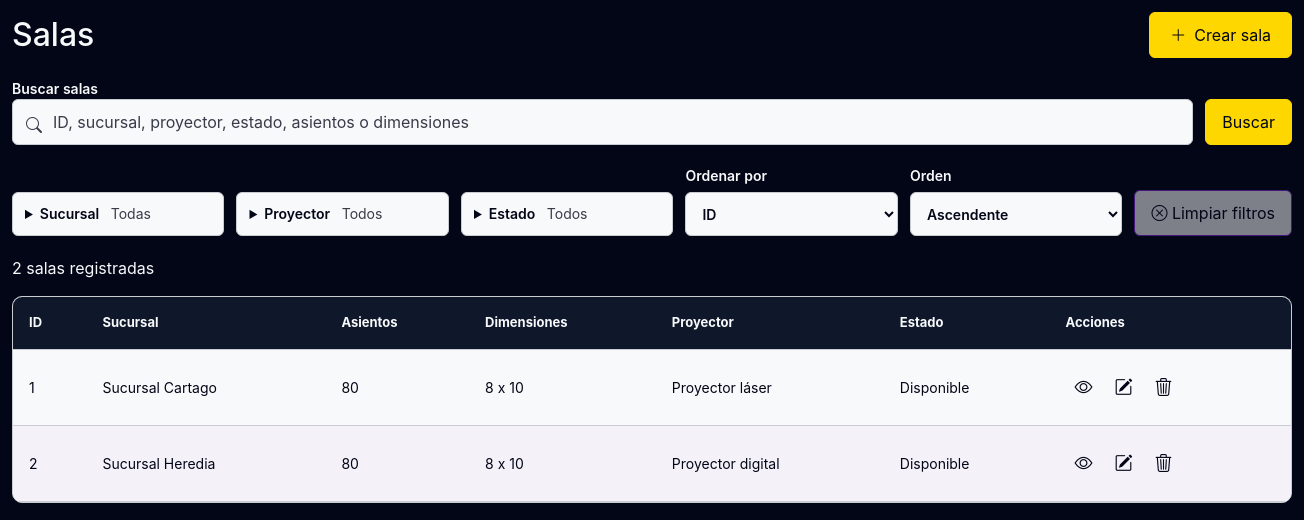
TheatersSection search › shows a message when nothing matches and restores rows on clear
Type "zzz" into the search field with id "theater-search".
click(603, 122); type("zzz")  # box [12,99,1193,145]
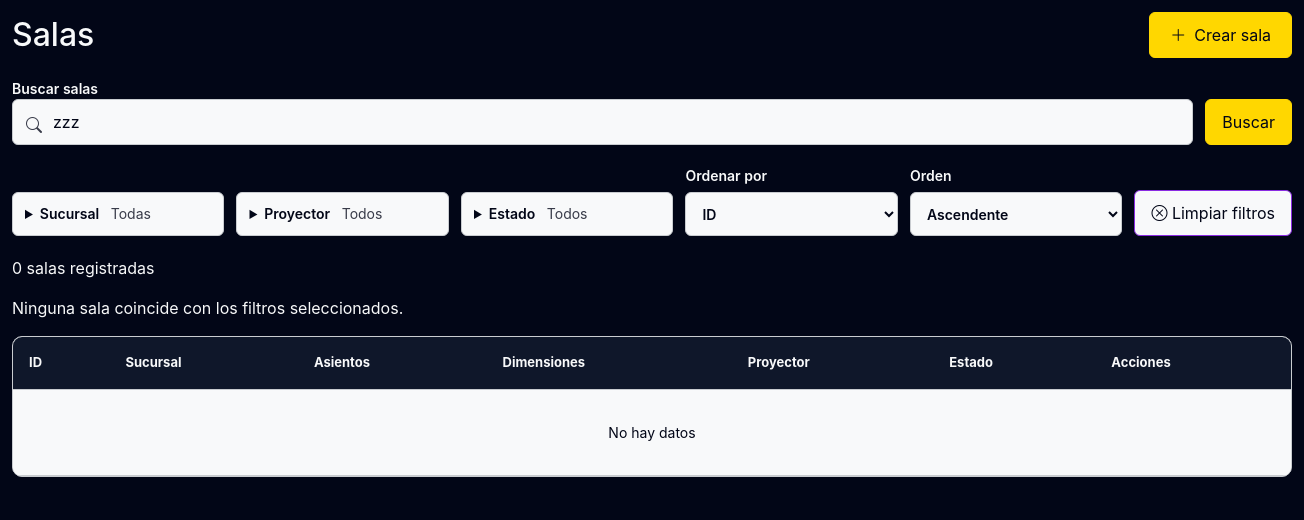
Expected: the text "Ninguna sala coincide" is shown, [12,298,403,318]
Click the button with class "secondary-button".
click(1213, 213)  # box [1134,190,1292,236]
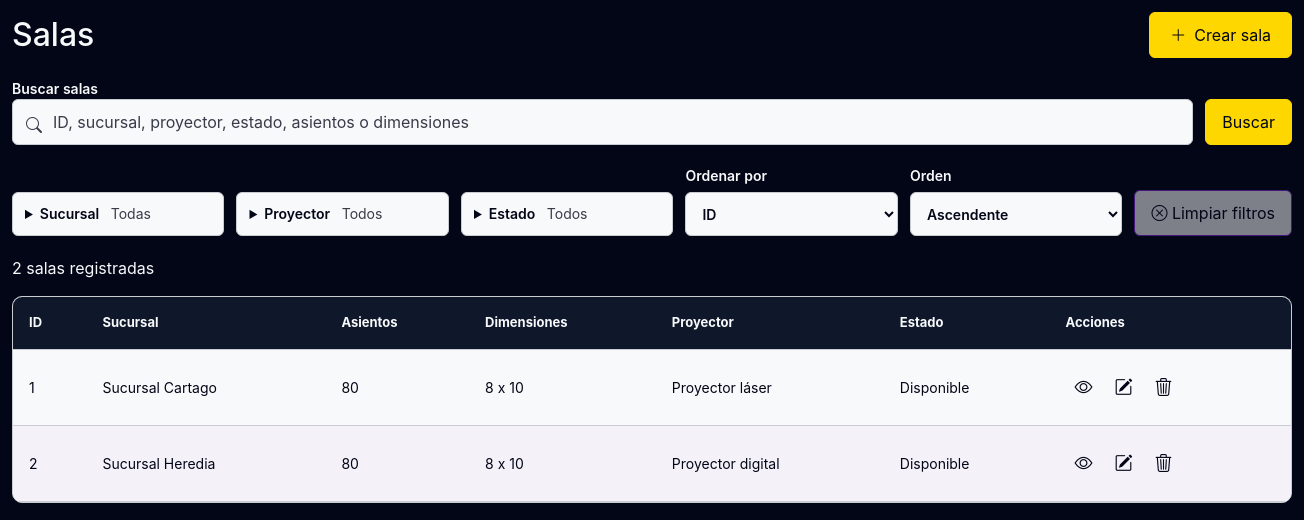
Expected: the search field with id "theater-search" is empty, [12,99,1193,145]
Expected: the table shows "Heredia", [102,454,216,472]
